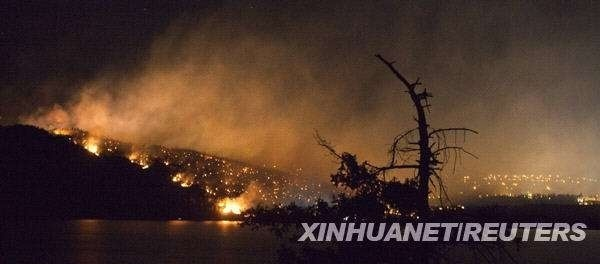fire: (215, 191, 249, 217), (170, 169, 192, 187), (126, 149, 146, 168), (85, 138, 100, 155)
